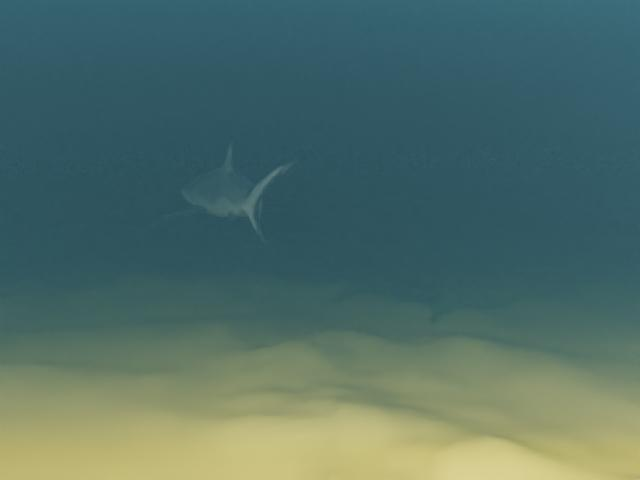Carribean Shark.001: (151, 139, 301, 243)
